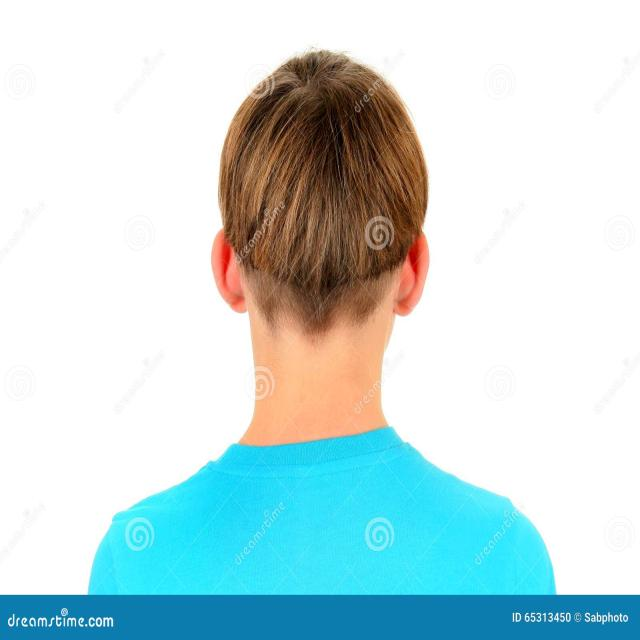child: (87, 54, 558, 596)
